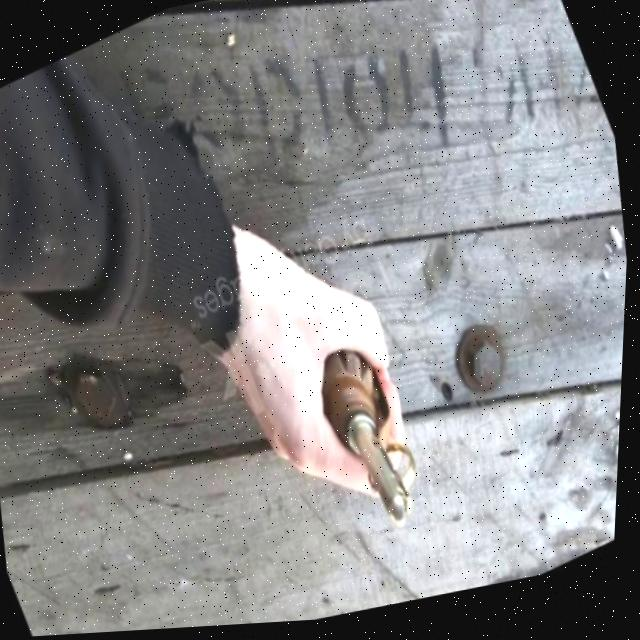grenade: (301, 332, 440, 553)
